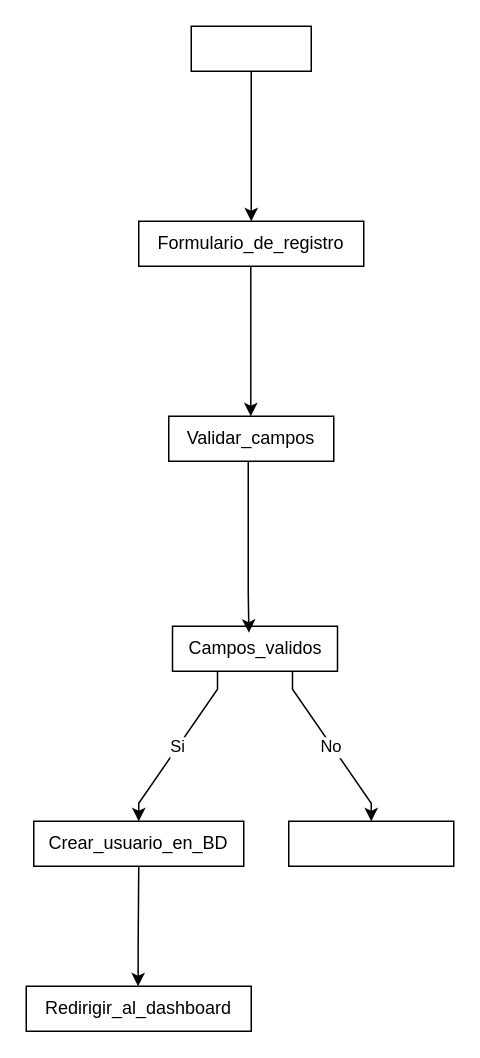
The diagram is 480 pixels wide and 1058 high, and some of its shapes have lost their labels. The box of each missing label's shape, as (x1, y1, x2, y2) in pixels:
Inicio: (190, 25, 311, 71)
Mostrar_errores: (287, 820, 454, 866)
